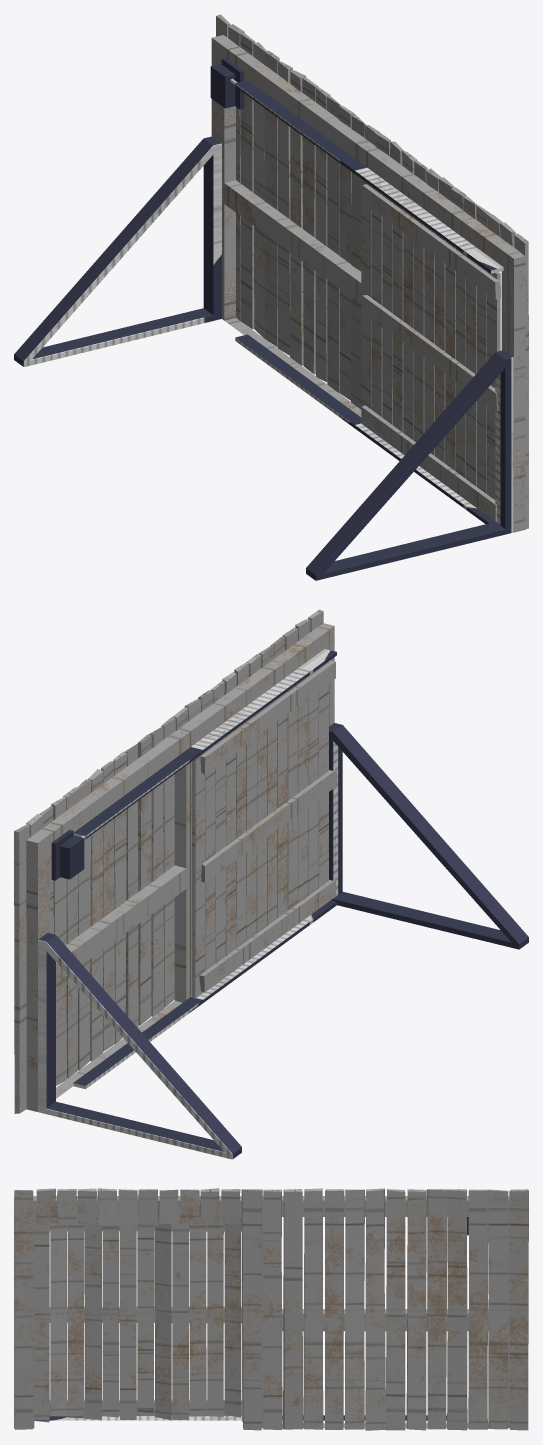
File: SecurityGate.fbx
The picture shows the model from 3 angles, top to bottom: view 1: azimuth 30°, elevation 25°; view 2: azimuth 150°, elevation 25°; view 3: azimuth 270°, elevation 25°; orthographic projection. The views are drawn at different scales.
Parts seen in each view (by area): view 1: Cube.111, Cube.115; view 2: Cube.111, Cube.115; view 3: Cube.111, Cube.115.
Boxes of the visible parts, left/top/right/bottom form: Cube.111: left=14, top=14, right=528, bottom=580; Cube.115: left=361, top=179, right=500, bottom=521; Cube.111: left=14, top=609, right=528, bottom=1159; Cube.115: left=192, top=660, right=337, bottom=998; Cube.111: left=14, top=1188, right=528, bottom=1430; Cube.115: left=34, top=1217, right=242, bottom=1422.
Size of the model in its own units: 247 by 318 by 615.
